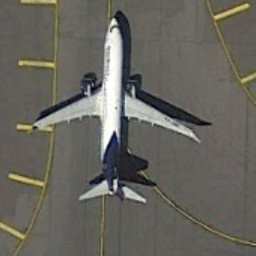Airplane: (29, 9, 209, 215)
